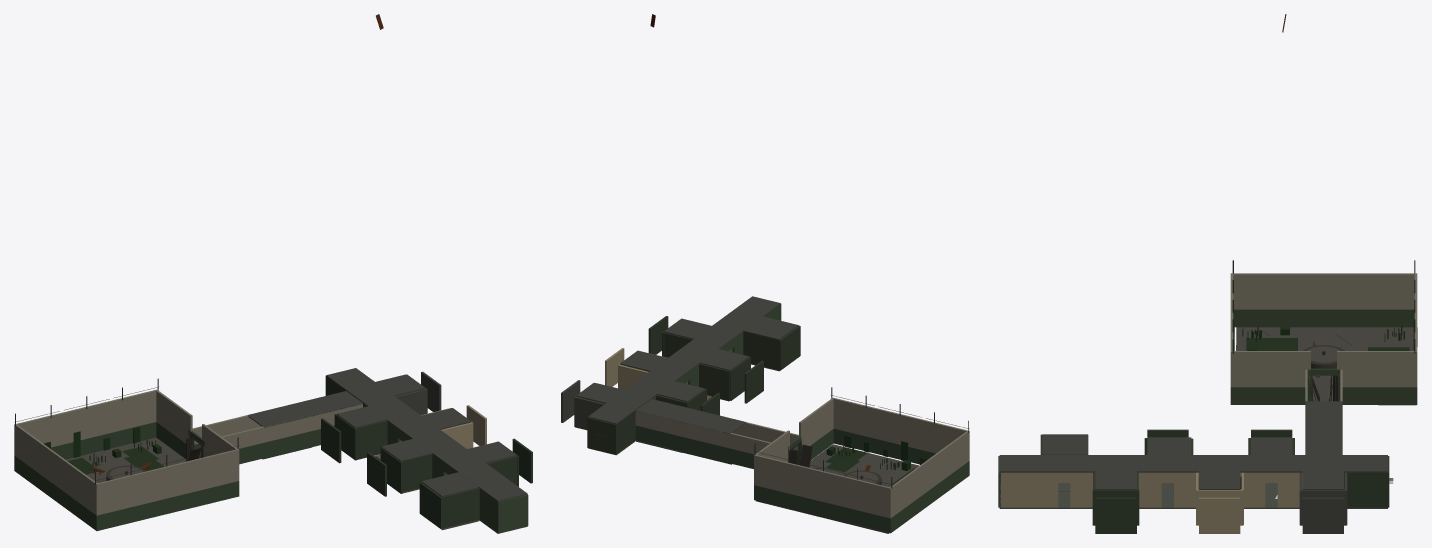
File: HospitalPsy.obj
3 views of the same model, side by side, from view 1: azimuth 30°, elevation 25°; view 2: azimuth 150°, elevation 25°; view 3: azimuth 270°, elevation 25° (orthographic). The views are drawn at different scales.
Parts seen in each view (by area): view 1: Ceiling_Main, PW_West_Hi, PW_East_Hi, PW_North_Hi, PW_West_Lo, Corr_Wall_L_Hi, Corr_Ceil_A, Patio_Floor_Main, PW_East_Lo, PW_North_Lo, Corr_Wall_L_Lo, Room0_WSideA (+18 smaller); view 2: Ceiling_Main, PW_East_Hi, PW_West_Hi, PW_North_Hi, PW_East_Lo, Corr_Wall_R_Hi, Corr_Wall_R_Lo, Patio_Floor_Main, Corr_Ceil_A, PW_West_Lo, PW_North_Lo, Room0_WSideB (+19 smaller); view 3: Ceiling_Main, PW_North_Hi, Patio_Floor_Main, PW_North_Lo, PW_South_L_Hi, PW_South_R_Hi, WR_seg0a, Corr_Ceil_A, Room1_WBack, Room3_WBack, Room5_WBack, WR_end (+18 smaller).
Part boxes in pixels (<box>): Ceiling_Main: <box>326,368,527,501</box>; PW_West_Hi: <box>95,449,239,515</box>; PW_East_Hi: <box>14,389,157,455</box>; PW_North_Hi: <box>15,424,98,515</box>; PW_West_Lo: <box>95,481,239,530</box>; Corr_Wall_L_Hi: <box>203,403,362,456</box>; Corr_Ceil_A: <box>247,391,362,427</box>; Patio_Floor_Main: <box>66,437,186,483</box>; PW_East_Lo: <box>14,422,156,471</box>; PW_North_Lo: <box>15,457,97,530</box>; Corr_Wall_L_Lo: <box>239,425,334,464</box>; Room0_WSideA: <box>440,488,479,528</box>; Ceiling_Main: <box>588,296,780,424</box>; PW_East_Hi: <box>754,454,891,518</box>; PW_West_Hi: <box>832,397,969,460</box>; PW_North_Hi: <box>889,431,968,517</box>; PW_East_Lo: <box>754,485,891,533</box>; Corr_Wall_R_Hi: <box>635,410,787,462</box>; Corr_Wall_R_Lo: <box>635,425,754,468</box>; Patio_Floor_Main: <box>755,444,919,533</box>; Corr_Ceil_A: <box>635,399,745,433</box>; PW_West_Lo: <box>833,428,969,475</box>; PW_North_Lo: <box>889,462,968,531</box>; Room0_WSideB: <box>743,331,780,370</box>; Ceiling_Main: <box>999,455,1387,472</box>; PW_North_Hi: <box>1230,273,1417,309</box>; Patio_Floor_Main: <box>1236,327,1417,405</box>; PW_North_Lo: <box>1233,309,1414,327</box>; PW_South_L_Hi: <box>1233,351,1310,387</box>; PW_South_R_Hi: <box>1337,351,1414,387</box>; WR_seg0a: <box>999,472,1058,507</box>; Corr_Ceil_A: <box>1305,401,1342,454</box>; Room1_WBack: <box>1095,497,1136,533</box>; Room3_WBack: <box>1199,497,1240,533</box>; Room5_WBack: <box>1302,497,1343,533</box>; WR_end: <box>1344,472,1387,507</box>.
Bounding box in the file's own units: 38.12 × 41.69 × 32.38.
